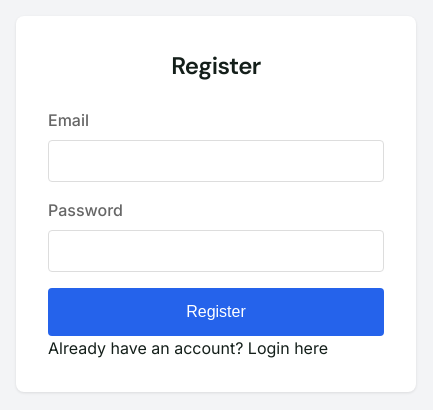
Register page › disables the button when submitting
Click the button "Register".
click(216, 312)  # box [48,288,384,336]
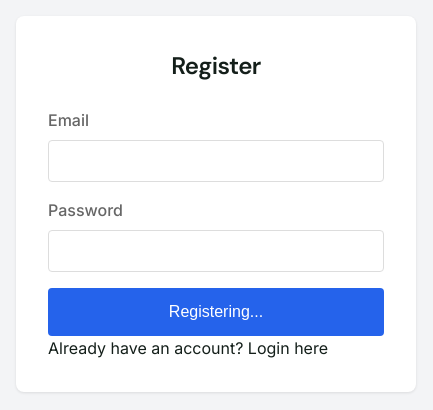
Now the button "Registering..." is disabled, box [48,288,384,336]
